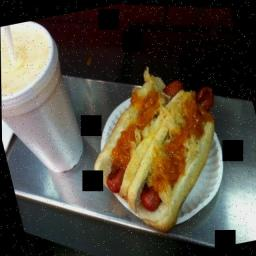hotdog: (104, 79, 242, 239), (72, 63, 206, 203)
